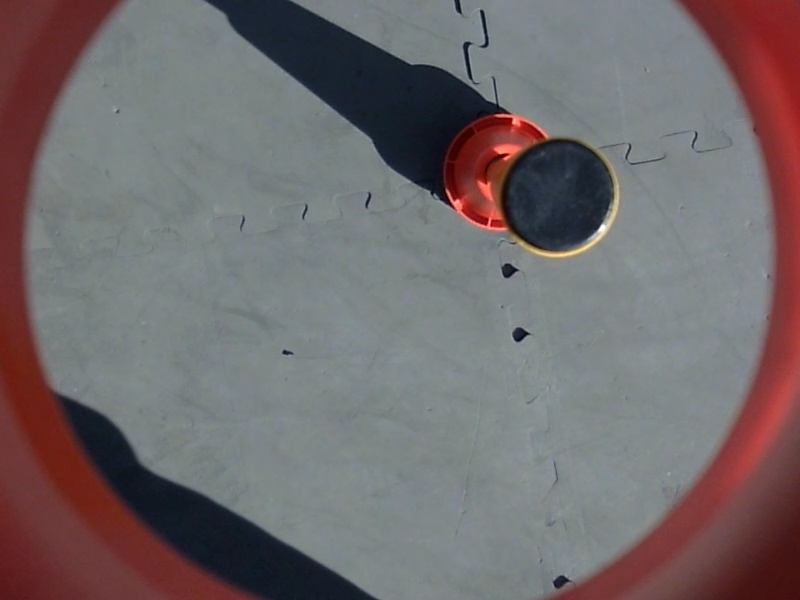tip: (499, 133, 623, 261)
